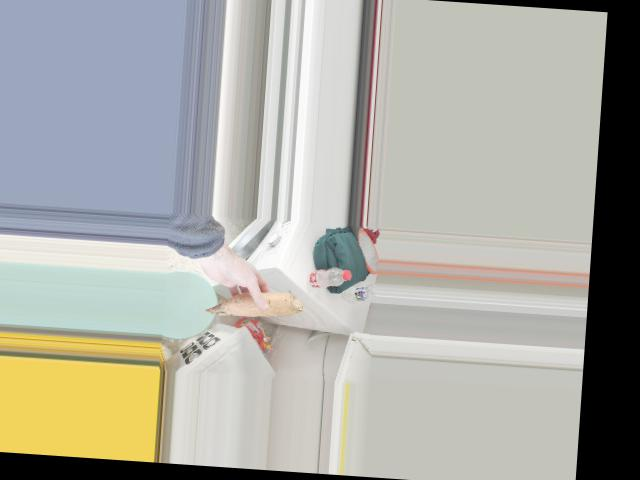sweet_potato: (206, 287, 297, 319)
